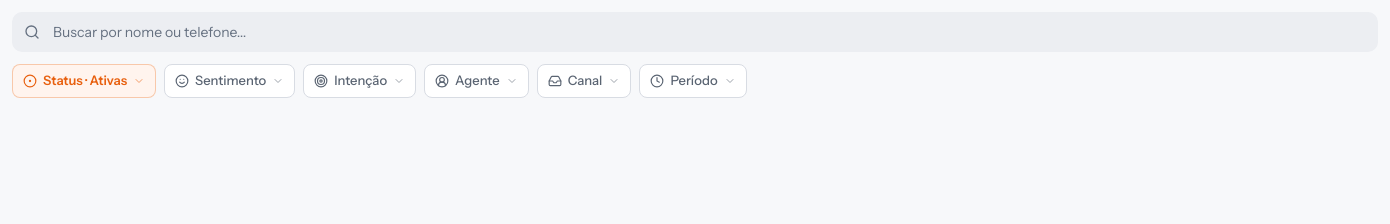
Scenario: ConversationFiltersCompact — chip-trigger › chip Canal aparece quando há inboxes e lista os canais com nome + tipo
The image size is (1390, 224).
Click the button "Canal" at (584, 81), box [537,64,631,98]
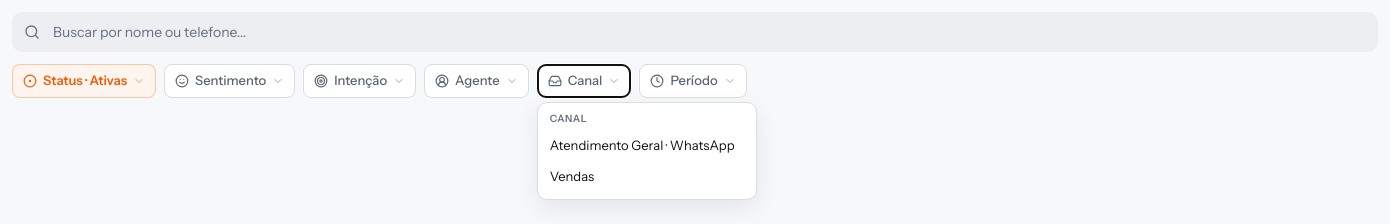
expect the button "Atendimento Geral · WhatsApp" is shown: met, box [538,130,756,161]
expect the button "Vendas" is shown: met, box [538,161,756,192]
